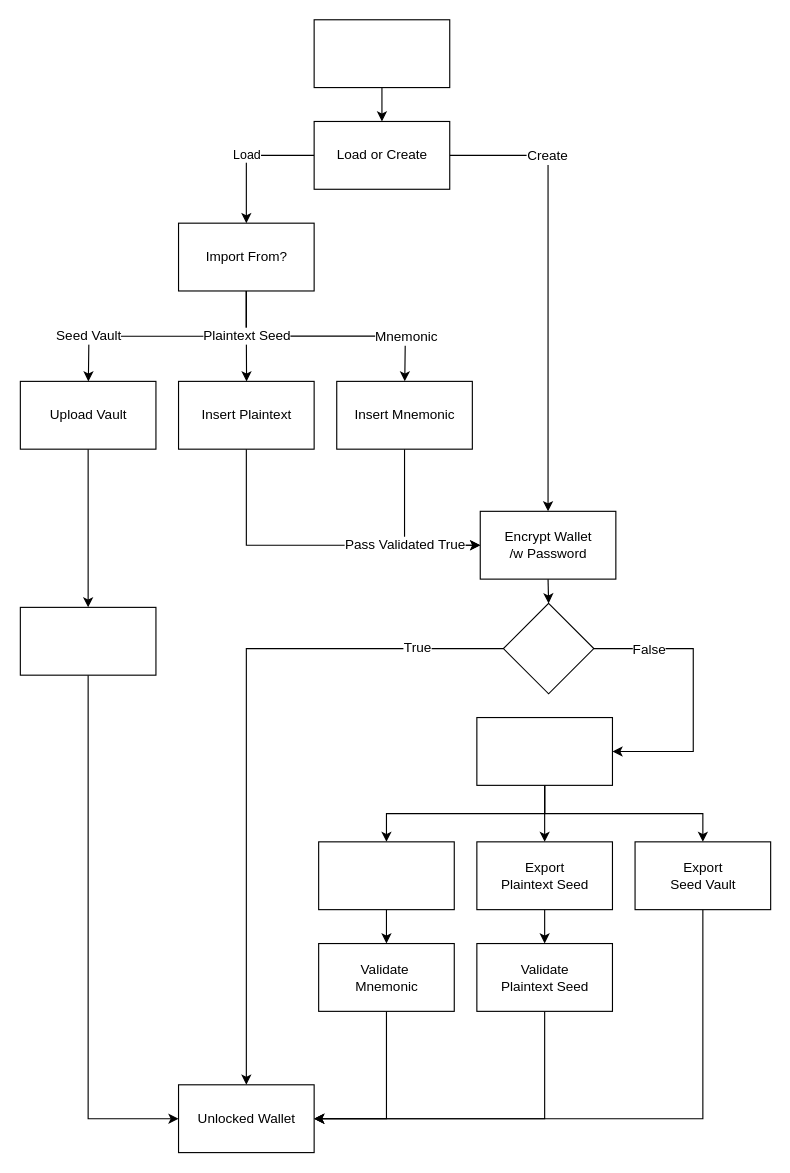
The diagram is 790 pixels wide and 1173 high, and some of its shapes have lost their labels. The shapes that lost their labels are listed below. From the top down, each one's centre as x and y in pixels, then its label:
At point 381,53: "Language Selector".
At point 87,640: "Decrypt Vault /w Password".
At point 548,648: "Is Validated".
At point 544,750: "Export Options".
At point 386,875: "Export Mnemonic".
